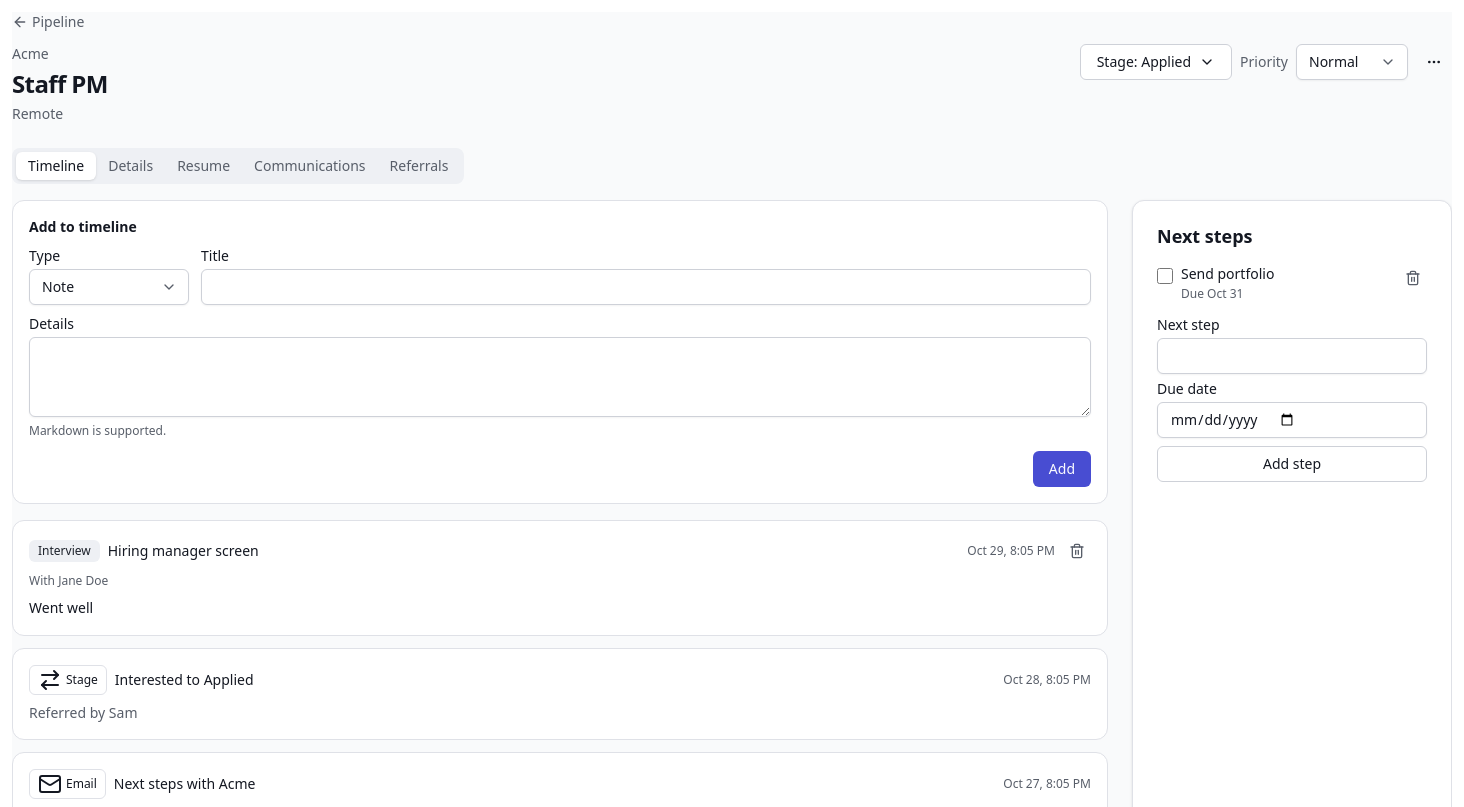
OpportunityDetail › #138: "More actions" shows a tooltip on hover, without the hover breaking the menu
Hover over the button named "More actions".
mouse_move(1434, 62)  # box [1416,44,1452,80]
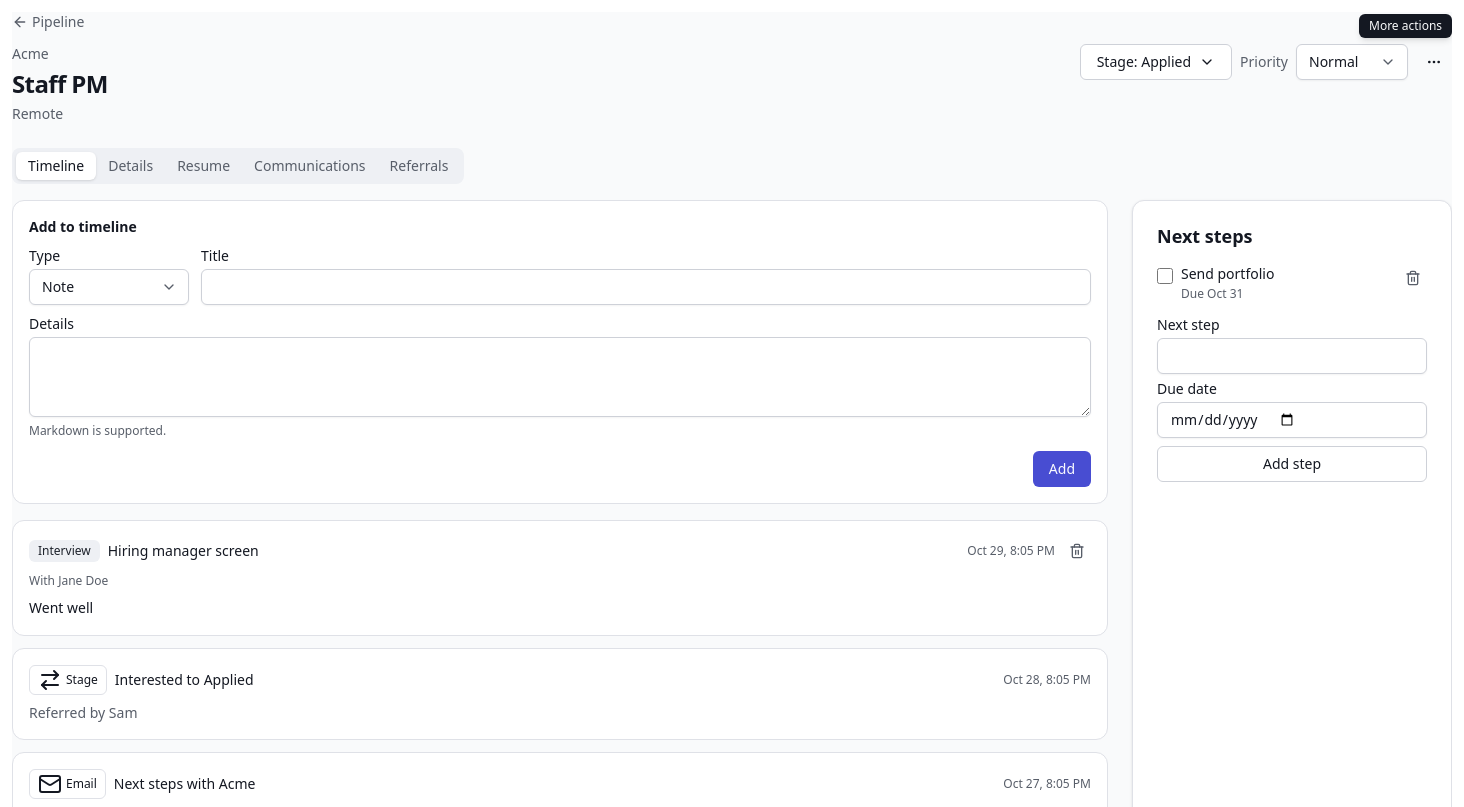
Expected: the tooltip "More actions" is shown, [1359,14,1452,38]
Click the button named "More actions".
click(1434, 62)  # box [1416,44,1452,80]
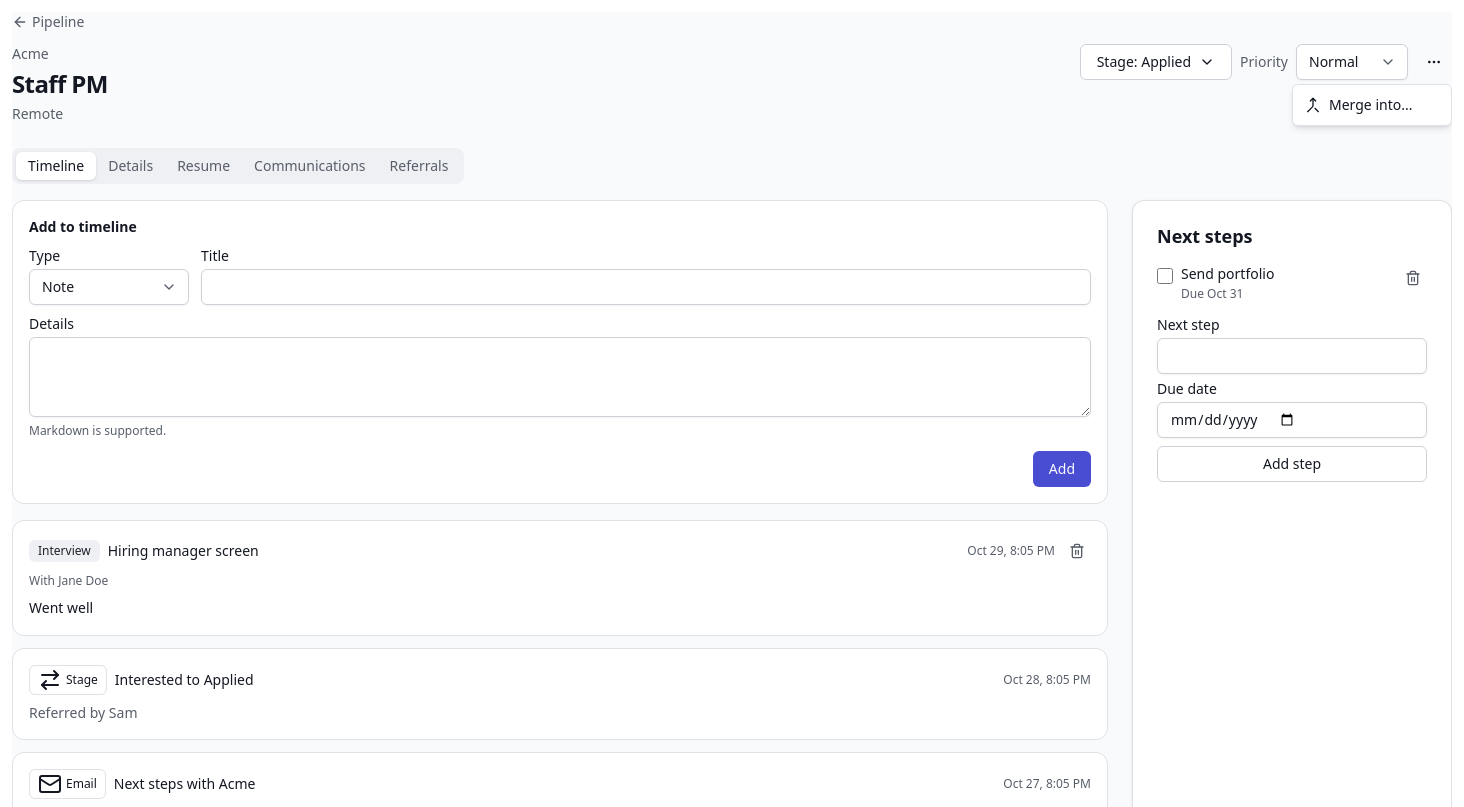
Expected: the menu is shown, [1292,84,1452,126]
